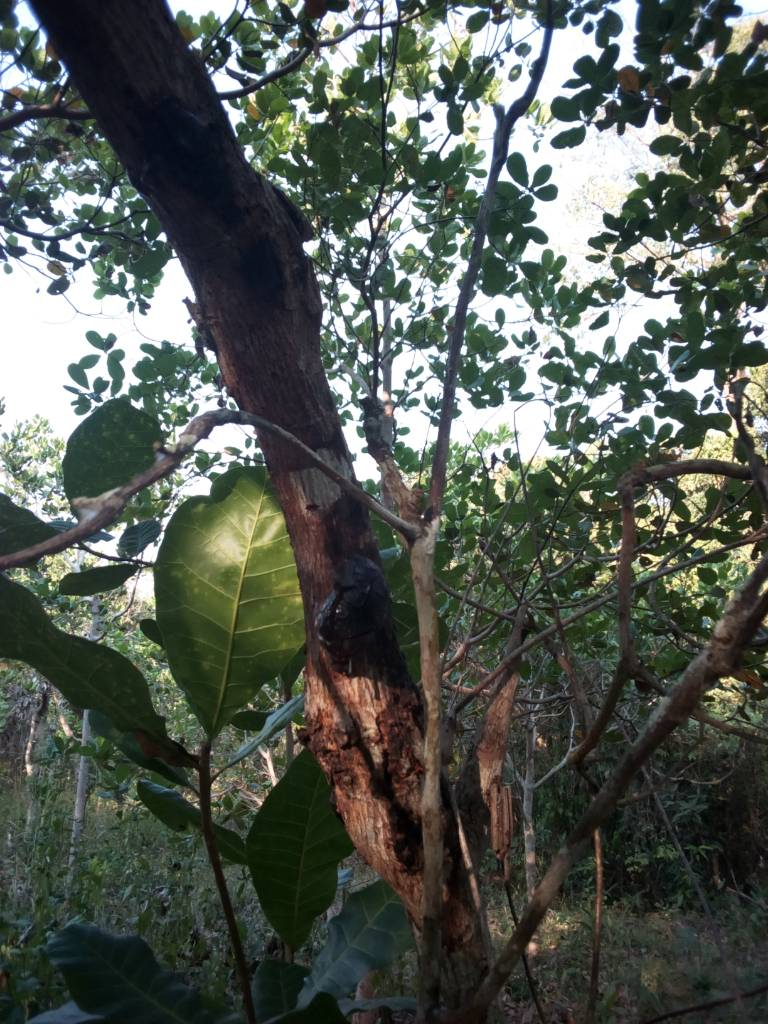Gommose: (315, 536, 424, 780)
